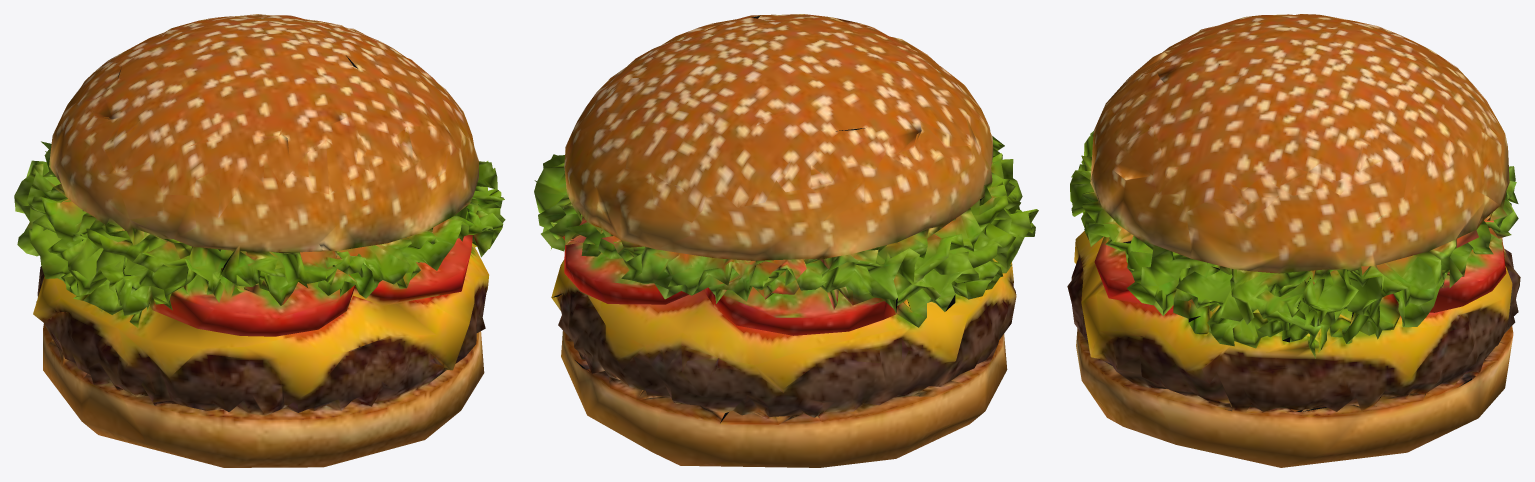
The model's file is food-hamburger.glb.
3 renders of one model, left to right at view 1: azimuth 30°, elevation 25°; view 2: azimuth 150°, elevation 25°; view 3: azimuth 270°, elevation 25°, orthographic.
Visible parts, largest first — view 1: Model; view 2: Model; view 3: Model.
Boxes of the visible parts, bbox=[...] form: Model: bbox=[14, 14, 505, 467]; Model: bbox=[534, 14, 1038, 467]; Model: bbox=[1067, 14, 1520, 467].
Bounding box in the file's own units: 1.9 × 1.46 × 1.74.
Materials: 1 (1 with a texture image).
